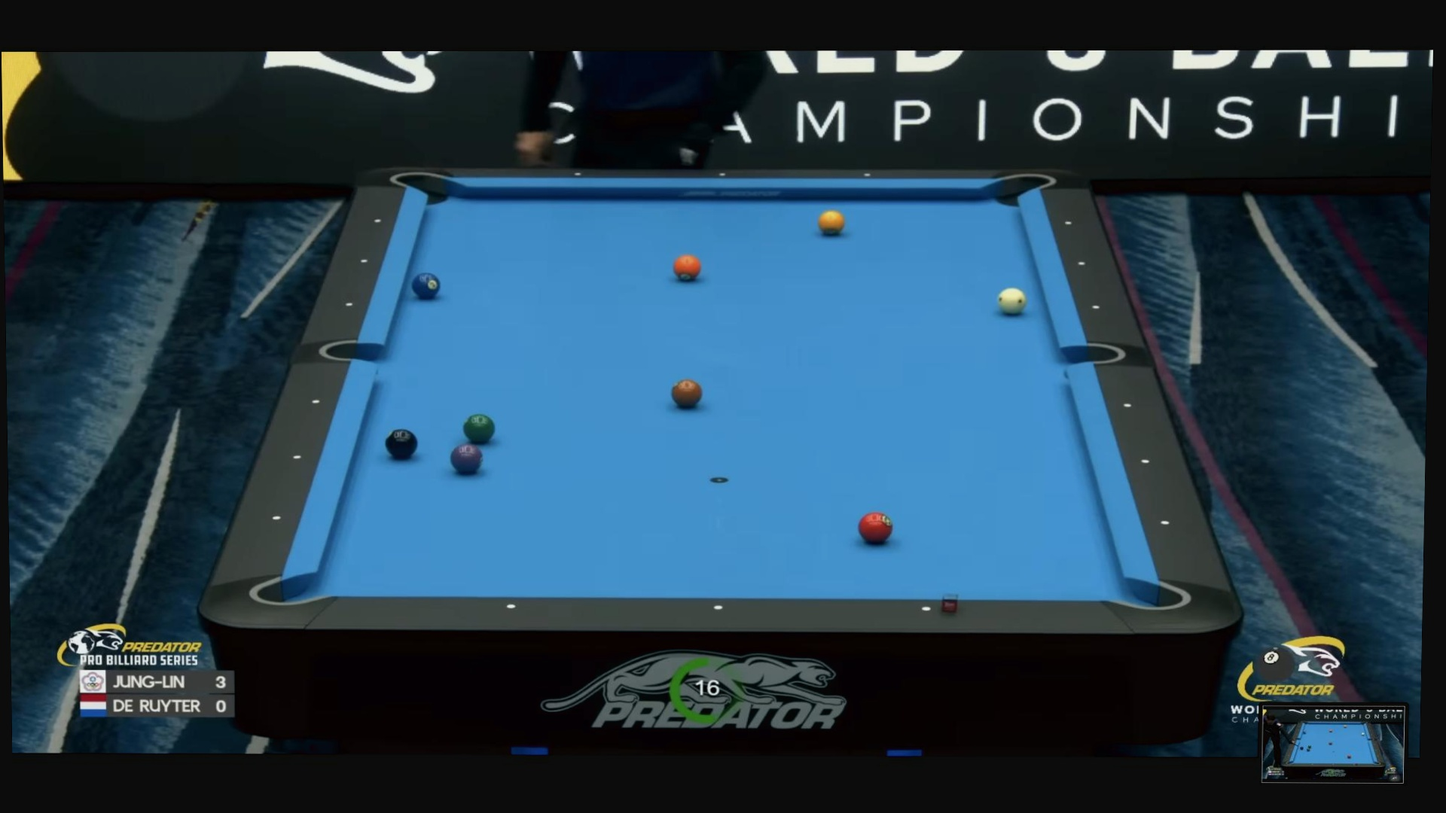Black: (384, 429, 418, 459)
Cue: (998, 287, 1027, 314)
Solid: (504, 601, 517, 613), (712, 602, 725, 614), (920, 604, 932, 616), (1159, 517, 1171, 528), (1139, 457, 1152, 467), (371, 215, 382, 226), (1121, 400, 1133, 410), (343, 299, 355, 309), (310, 397, 321, 407), (359, 257, 370, 267), (292, 453, 302, 463), (271, 514, 282, 523), (1091, 302, 1101, 311), (1064, 218, 1073, 227), (1077, 260, 1086, 268), (718, 171, 727, 179), (574, 170, 582, 178), (864, 171, 872, 178)
Striped: (858, 511, 893, 544), (450, 443, 483, 473), (463, 413, 495, 443), (671, 378, 702, 407), (672, 254, 701, 281), (411, 272, 441, 298), (818, 210, 845, 235)
